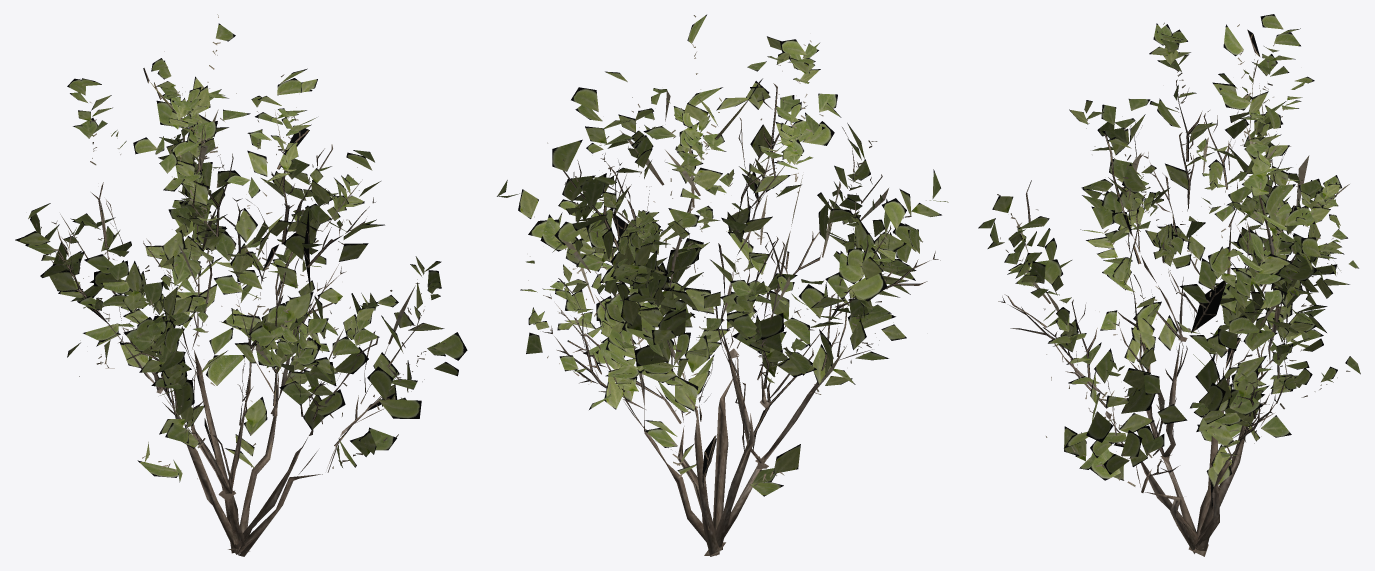
The model's file is chap_d.glb.
3 renders of one model, left to right at view 1: azimuth 30°, elevation 25°; view 2: azimuth 150°, elevation 25°; view 3: azimuth 270°, elevation 25°, orthographic. The views are drawn at different scales.
Visible parts, largest first — view 1: Cube.069; view 2: Cube.069; view 3: Cube.069.
Boxes of the visible parts, <box> form: Cube.069: <box>15,14,467,556</box>; Cube.069: <box>497,14,948,556</box>; Cube.069: <box>978,14,1360,556</box>.
Bounding box in the file's own units: 1.04 × 1.39 × 0.912.
3 materials, 3 textured.
